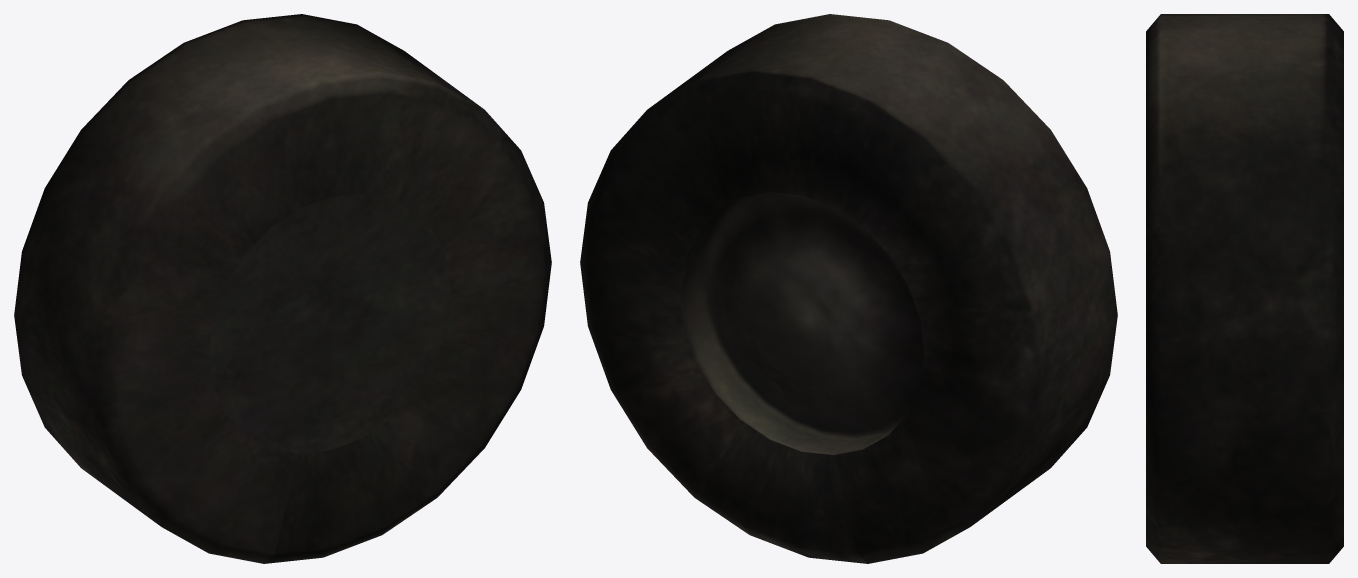
File: Wheel.FBX
3 views of the same model, side by side, from view 1: azimuth 30°, elevation 25°; view 2: azimuth 150°, elevation 25°; view 3: azimuth 270°, elevation 25° (orthographic). The views are drawn at different scales.
Visible parts, largest first — view 1: Wheel; view 2: Wheel; view 3: Wheel.
Boxes of the visible parts, box(x1,y1,x2,y2) form: Wheel: box(14, 14, 551, 563); Wheel: box(580, 14, 1117, 563); Wheel: box(1146, 14, 1343, 563).
Bounding box in the file's own units: 7.37 × 7.37 × 2.64.
Materials: 1 (1 with a texture image).
